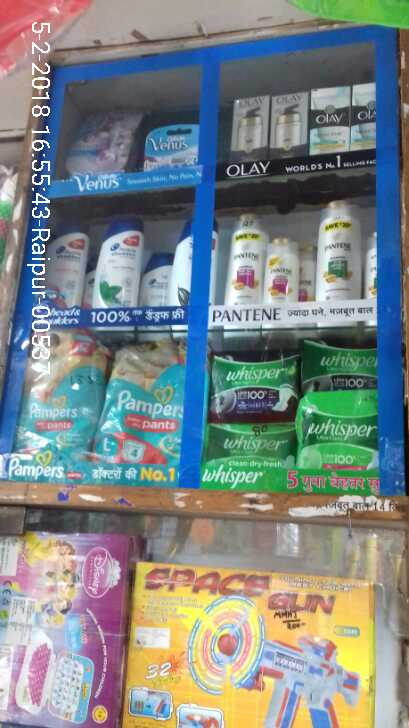venus: (64, 108, 146, 172), (146, 122, 199, 172)
